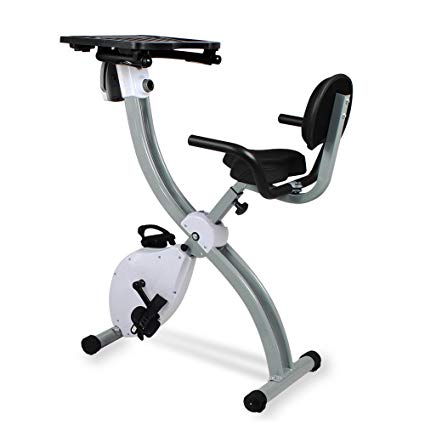gym_bike: (53, 28, 350, 417)
